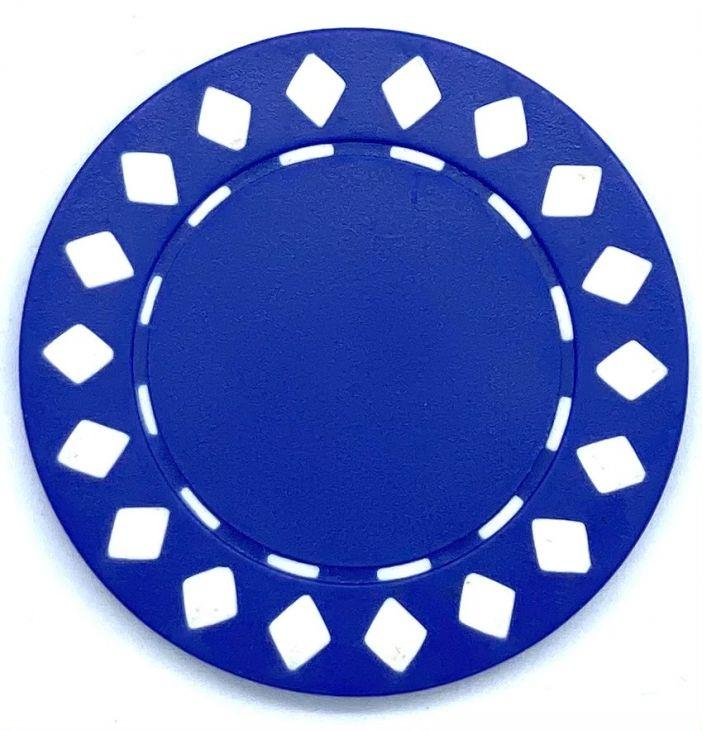chip-blue: (20, 29, 687, 695)
